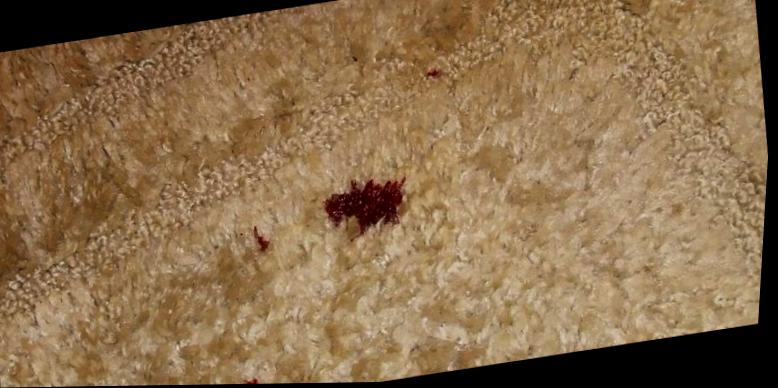Fire: (327, 177, 408, 242), (255, 226, 274, 251), (427, 70, 441, 78), (248, 379, 263, 385)
